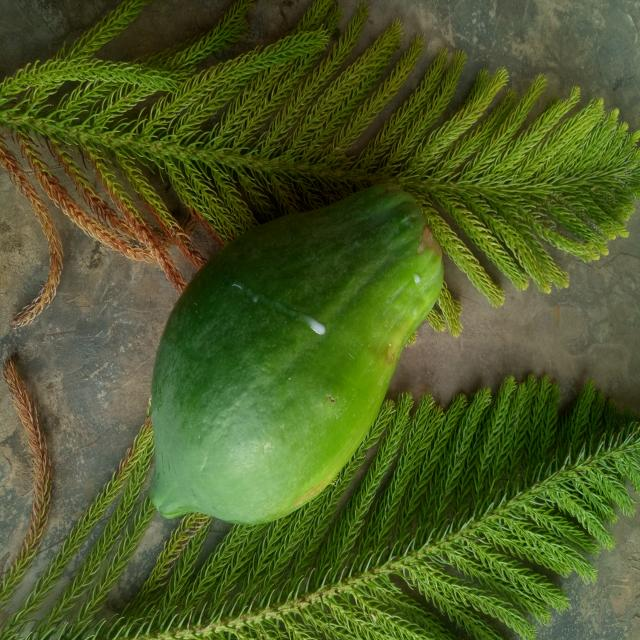Pepaya unrippen: (135, 161, 455, 527)
